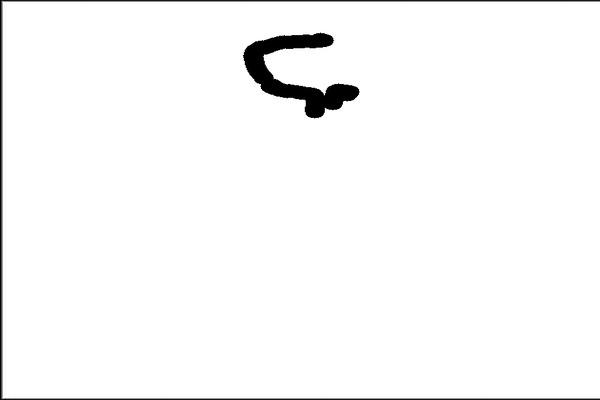C: (237, 27, 362, 123)
